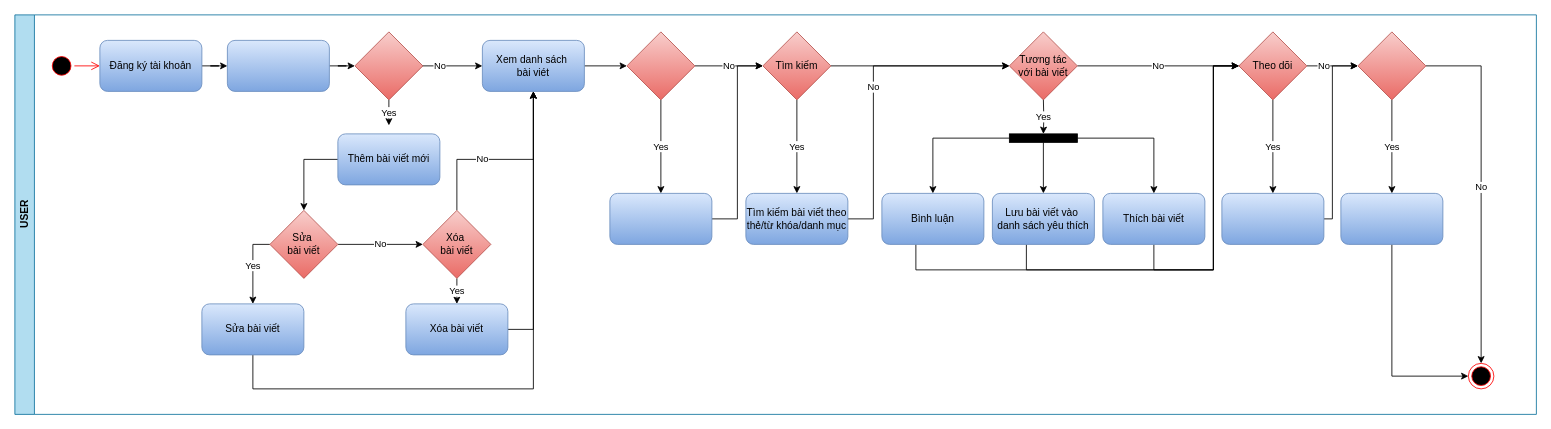
The diagram is 1551 pixels wide and 429 high, and some of its shapes have lost their labels. The centre of each missing label's shape, as x and y in pixels:
"Báo cáo bình luận/bài viết vi phạm" belongs at (1391,218).
"Báo cáo vi phạm" belongs at (1391,65).
"Theo dõi người dùng khác" belongs at (1272,218).
"Thêm bài biết" belongs at (388,65).
"Xem chi tiết" belongs at (660,65).
"Xem chi tiết bài viết" belongs at (660,218).
"Đăng nhập" belongs at (278,65).
